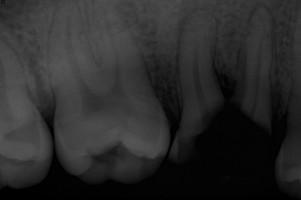Endo-Periodontal Lesion: (212, 68, 236, 99)
